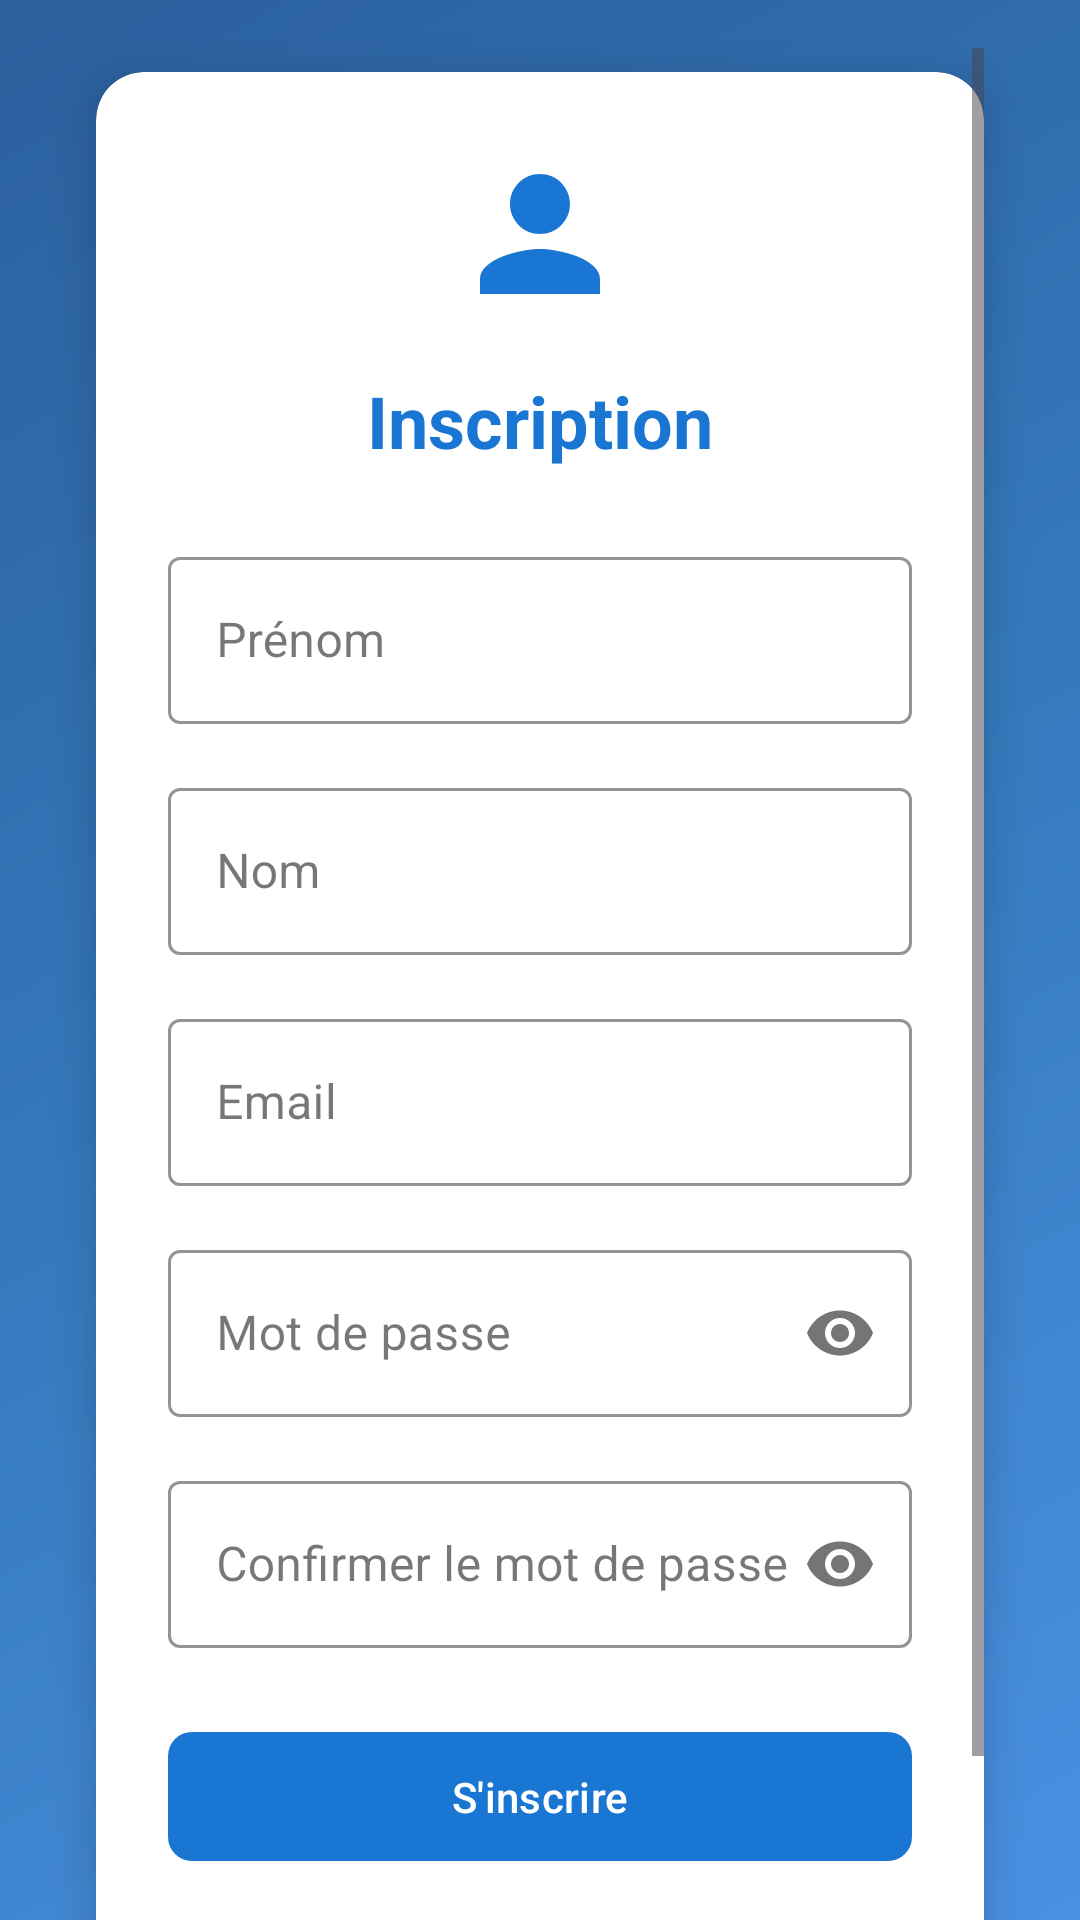

Point at icon controls on the screen. Image size 1080 × 1920, points as point (x, y).
person: point (540, 234)
